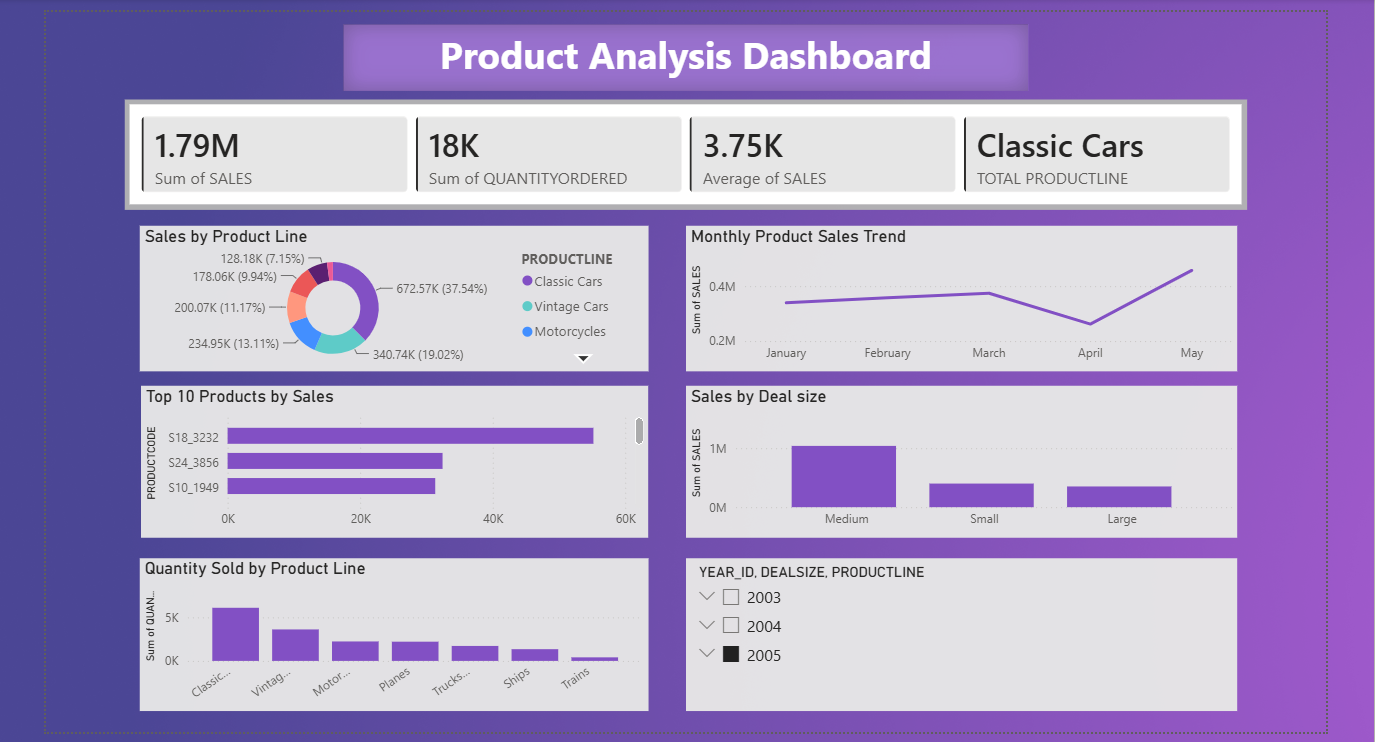

The page's visual inventory and layout, read from the dashboard file:
{"tool":"powerbi","page":{"name":"Page 4","canvas":[1280,720],"ordinal":3},"visuals":[{"type":"textbox","box":[297.1,12.2,684.8,66],"z":0},{"type":"cardVisual","fields":{"Data":["Sum(sales_data_sample.SALES)","Sum(sales_data_sample.QUANTITYORDERED)","Avg(sales_data_sample.SALES)","Min(sales_data_sample.PRODUCTLINE)"]},"box":[78.3,88,1122.6,110.1],"z":1000},{"type":"donutChart","title":"Sales by Product Line","fields":{"Category":["sales_data_sample.PRODUCTLINE"],"Y":["Sum(sales_data_sample.SALES)"]},"box":[94.2,214,508.7,145.5],"z":2000},{"type":"clusteredBarChart","title":"Top 10 Products by Sales","fields":{"Category":["sales_data_sample.PRODUCTCODE"],"Y":["Sum(sales_data_sample.SALES)"]},"box":[95.4,374.2,507.5,151.6],"z":3000},{"type":"clusteredColumnChart","title":"Quantity Sold by Product Line","fields":{"Category":["sales_data_sample.PRODUCTLINE"],"Y":["Sum(sales_data_sample.QUANTITYORDERED)"]},"box":[94.2,546.6,508.7,152.9],"z":4000},{"type":"clusteredColumnChart","title":"Sales by Deal size","fields":{"Y":["Sum(sales_data_sample.SALES)"],"Category":["sales_data_sample.DEALSIZE"]},"box":[639.5,374.2,551.5,151.6],"z":5000},{"type":"lineChart","title":"Monthly Product Sales Trend","fields":{"Category":["sales_data_sample.ORDERDATE.Variation.Date Hierarchy.Month"],"Y":["Sum(sales_data_sample.SALES)"]},"box":[639.5,214,551.5,145.5],"z":6000},{"type":"slicer","fields":{"Values":["sales_data_sample.YEAR_ID","sales_data_sample.DEALSIZE","sales_data_sample.PRODUCTLINE"]},"box":[639.5,546.6,551.5,152.9],"z":7000}]}

Visuals, with their boxes in screenshot pixels (x1, y1, x2, y2):
textbox: 337:16:1033:83
cardVisual - Sum(sales_data_sample.SALES) x Sum(sales_data_sample.QUANTITYORDERED): 115:93:1255:205
"Sales by Product Line" donutChart: 131:221:648:369
"Top 10 Products by Sales" clusteredBarChart: 133:383:648:537
"Quantity Sold by Product Line" clusteredColumnChart: 131:559:648:714
"Sales by Deal size" clusteredColumnChart: 685:383:1245:537
"Monthly Product Sales Trend" lineChart: 685:221:1245:369
slicer - sales_data_sample.YEAR_ID x sales_data_sample.DEALSIZE: 685:559:1245:714
